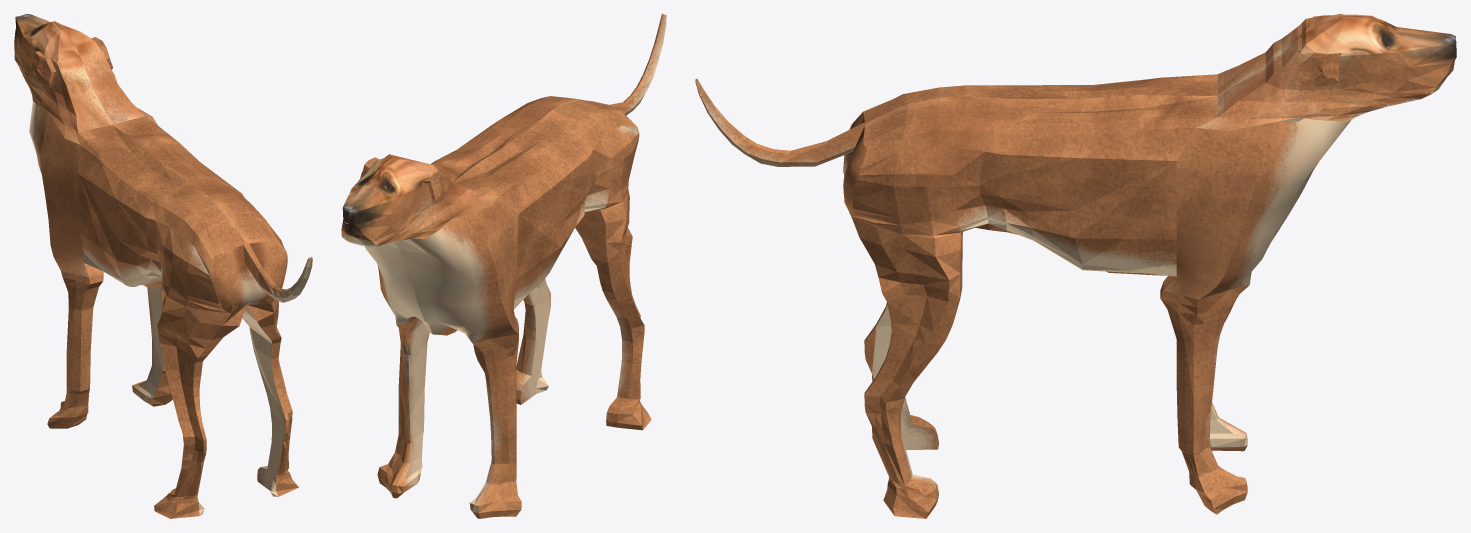
File: perro.obj
The picture shows the model from 3 angles, left to right: view 1: azimuth 30°, elevation 25°; view 2: azimuth 150°, elevation 25°; view 3: azimuth 270°, elevation 25°; orthographic projection. The views are drawn at different scales.
Parts seen in each view (by area): view 1: Cuerpo_Box001_Material.003, Cuerpo_Box001_Material.004; view 2: Cuerpo_Box001_Material.003, Cuerpo_Box001_Material.004; view 3: Cuerpo_Box001_Material.003, Cuerpo_Box001_Material.004.
Boxes of the visible parts, box(x1,y1,x2,y2) form: Cuerpo_Box001_Material.003: box(14, 14, 312, 518); Cuerpo_Box001_Material.004: box(30, 37, 112, 85); Cuerpo_Box001_Material.003: box(341, 14, 666, 518); Cuerpo_Box001_Material.004: box(360, 157, 448, 203); Cuerpo_Box001_Material.003: box(695, 14, 1456, 518); Cuerpo_Box001_Material.004: box(1298, 15, 1341, 86).
Bounding box in the file's own units: 25.78 × 63.08 × 94.95.
2 materials, 2 textured.
